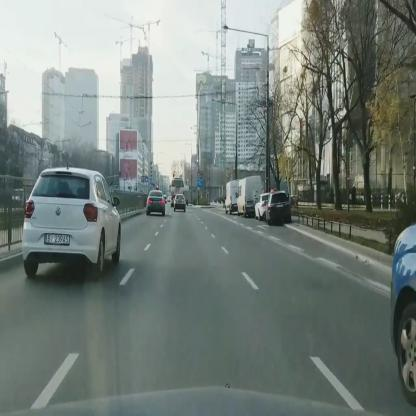cars: (22, 165, 121, 280), (266, 192, 291, 224), (146, 190, 166, 216), (255, 194, 268, 222), (173, 194, 186, 213)
